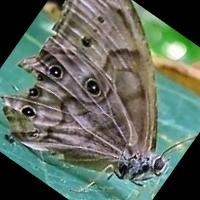butterfly: (1, 0, 167, 179)
